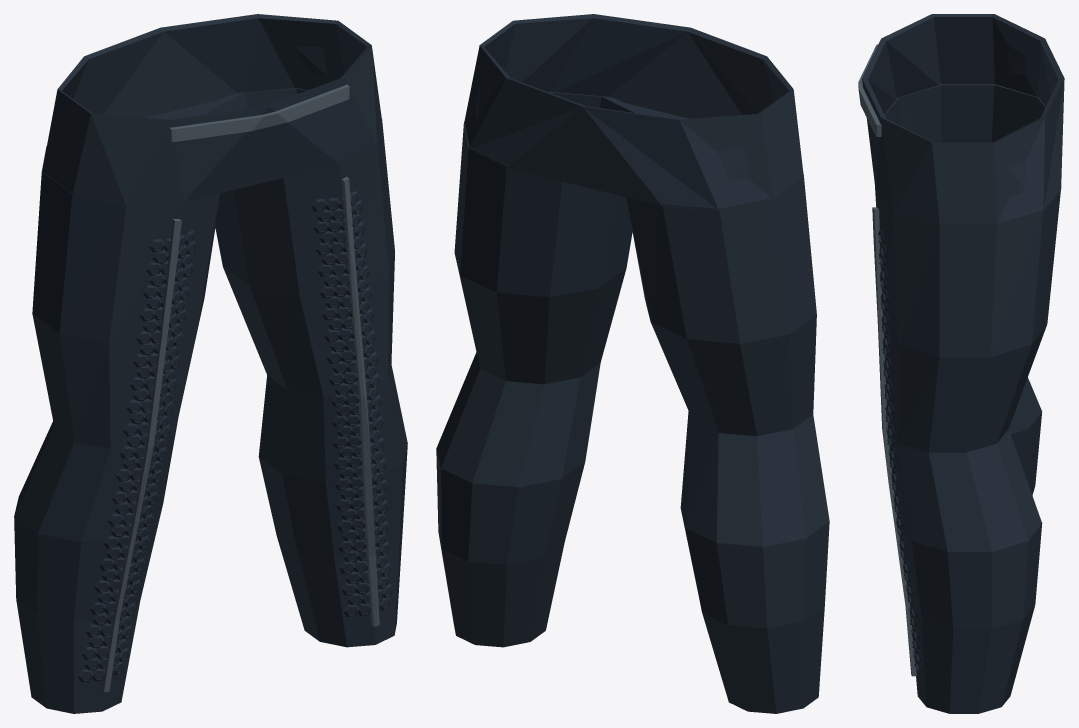
Rendered from ring_legs-male.glb.
3 renders of one model, left to right at view 1: azimuth 30°, elevation 25°; view 2: azimuth 150°, elevation 25°; view 3: azimuth 270°, elevation 25°, orthographic. The views are drawn at different scales.
Parts seen in each view (by area): view 1: ring trouser leg -1, ring trouser leg 1, ring trouser pelvis yoke, ring woven coverage on ring trouser leg 1, ring woven coverage on ring trouser leg -1, Trouser reinforced front seam -1, Trouser reinforced front seam 1, Trouser waist facing; view 2: ring trouser leg -1, ring trouser leg 1, ring trouser pelvis yoke; view 3: ring trouser leg 1, ring trouser pelvis yoke, ring trouser leg -1, ring woven coverage on ring trouser leg 1, Trouser reinforced front seam 1, Trouser waist facing.
Part boxes in pixels (x1,y1,x2,y2): ring trouser leg -1: (14, 146, 220, 713); ring trouser leg 1: (201, 88, 407, 647); ring trouser pelvis yoke: (42, 14, 381, 204); ring woven coverage on ring trouser leg 1: (311, 191, 393, 616); ring woven coverage on ring trouser leg -1: (77, 230, 196, 682); Trouser reinforced front seam -1: (101, 219, 181, 692); Trouser reinforced front seam 1: (342, 176, 379, 626); Trouser waist facing: (169, 84, 349, 141); ring trouser leg -1: (626, 173, 829, 713); ring trouser leg 1: (436, 91, 643, 647); ring trouser pelvis yoke: (464, 14, 803, 210); ring trouser leg 1: (875, 188, 1060, 713); ring trouser pelvis yoke: (862, 14, 1064, 223); ring trouser leg -1: (884, 84, 1045, 495); ring woven coverage on ring trouser leg 1: (878, 229, 922, 672); Trouser reinforced front seam 1: (872, 207, 916, 676); Trouser waist facing: (858, 44, 881, 136).
Size of the model in its own units: 2.33 by 3.57 by 1.2.
